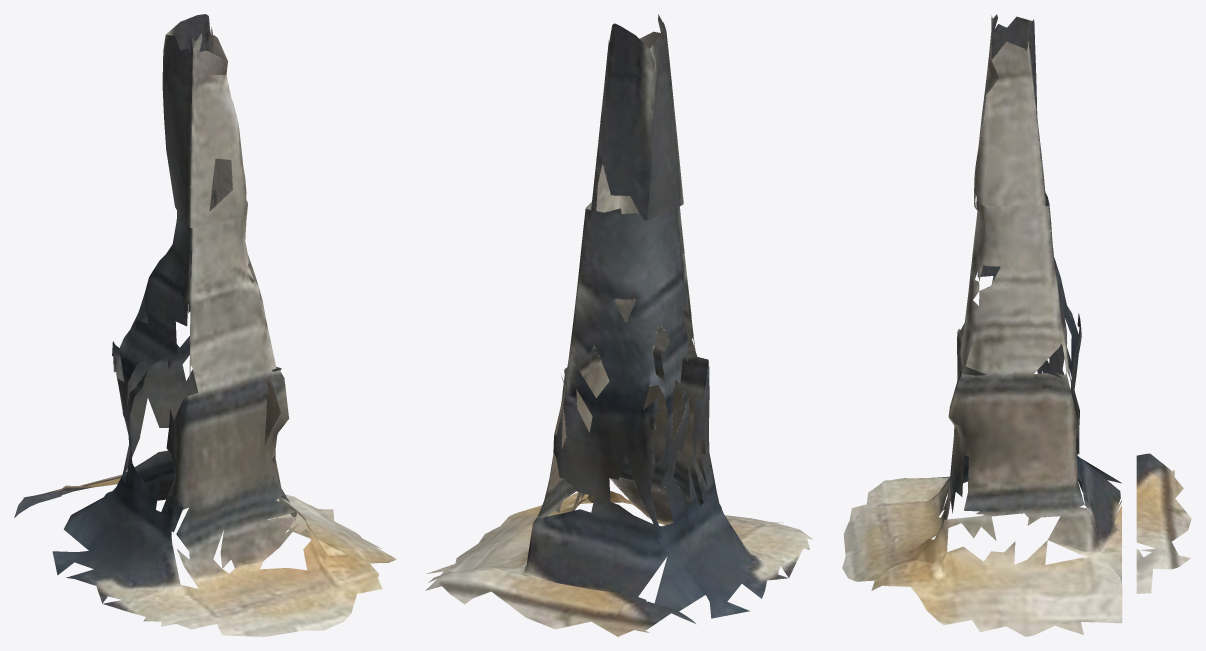
Rendered from keisarinnankivi.glb.
The picture shows the model from 3 angles, left to right: view 1: azimuth 30°, elevation 25°; view 2: azimuth 150°, elevation 25°; view 3: azimuth 270°, elevation 25°; orthographic projection. The views are drawn at different scales.
Parts seen in each view (by area): view 1: keisarinnankivi_Baked; view 2: keisarinnankivi_Baked; view 3: keisarinnankivi_Baked.
Part boxes in pixels (x1,y1,x2,y2): keisarinnankivi_Baked: (14, 14, 396, 636); keisarinnankivi_Baked: (425, 14, 813, 636); keisarinnankivi_Baked: (842, 14, 1191, 636).
Bounding box in the file's own units: 5.22 × 9.36 × 5.5.
Materials: 1 (1 with a texture image).
